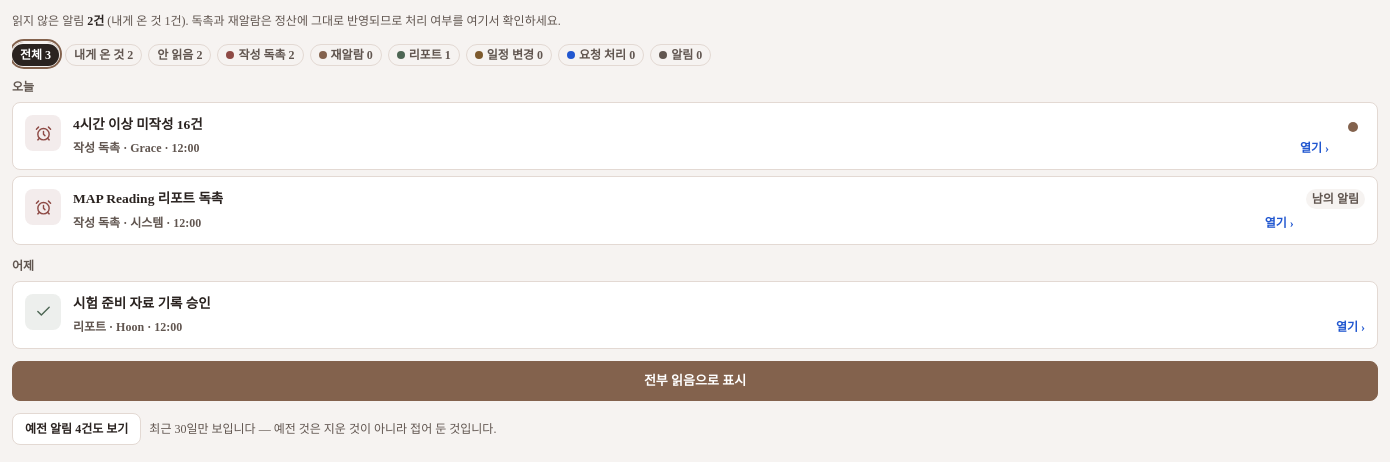
내게 온 것만 골라 볼 수 있다 — 남의 알림은 빠진다 (M-126)
Click the button "내게 온 것 2" at (104, 54), box [65,42,142,66]
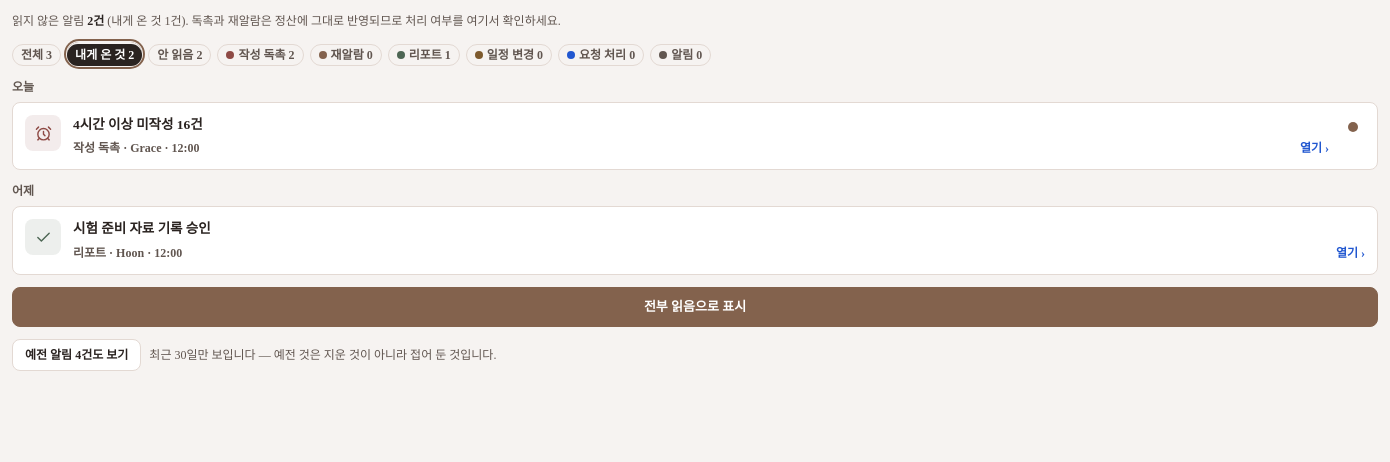
Expected: the text "4시간 이상 미작성 16건" is shown, [73,117,203,132]
Result: the text "MAP Reading 리포트 독촉" is gone
